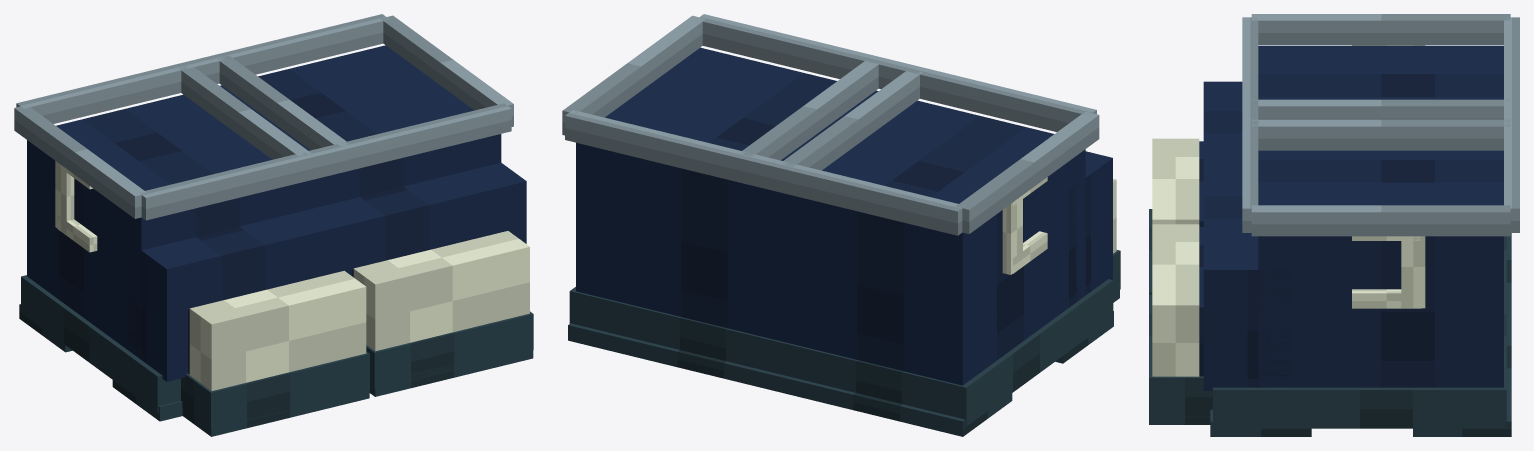
The model's file is jindan_taiyin_boots.obj.
3 views of the same model, side by side, from view 1: azimuth 30°, elevation 25°; view 2: azimuth 150°, elevation 25°; view 3: azimuth 270°, elevation 25° (orthographic). The views are drawn at different scales.
Visible parts, largest first — view 1: boot_shaft_-1, boot_instep_-1, boot_shaft_1, boot_toe_cap_-1, boot_toe_cap_1, boot_instep_1, boot_toe_welt_-1, boot_welt_-1, boot_cuff_front_-1, boot_toe_welt_1, boot_cuff_front_1, boot_cuff_back_-1 (+10 smaller); view 2: boot_shaft_-1, boot_shaft_1, boot_welt_-1, boot_cuff_back_-1, boot_welt_1, boot_cuff_back_1, boot_cuff_front_-1, boot_cuff_front_1, boot_cuff_side_-1_-1, boot_instep_-1, boot_cuff_side_1_1, boot_cuff_side_1_-1 (+5 smaller); view 3: boot_shaft_1, boot_shaft_-1, boot_instep_1, boot_welt_1, boot_cuff_side_1_1, boot_cuff_side_1_-1, boot_cuff_side_-1_-1, boot_toe_cap_1, boot_cuff_side_-1_1, boot_toe_cap_-1, boot_instep_-1, boot_toe_welt_1 (+12 smaller).
Part boxes in pixels (x1,y1,x2,y2): boot_shaft_-1: (27, 86, 337, 359); boot_instep_-1: (126, 202, 362, 381); boot_shaft_1: (220, 45, 501, 202); boot_toe_cap_-1: (189, 270, 366, 391); boot_toe_cap_1: (353, 231, 529, 351); boot_instep_1: (324, 162, 526, 268); boot_toe_welt_-1: (181, 351, 369, 428); boot_welt_-1: (21, 275, 180, 412); boot_cuff_front_-1: (140, 145, 347, 220); boot_toe_welt_1: (366, 311, 533, 388); boot_cuff_front_1: (303, 103, 511, 180); boot_cuff_back_-1: (16, 54, 224, 123); boot_shaft_-1: (752, 91, 1085, 385); boot_shaft_1: (576, 47, 878, 342); boot_welt_-1: (745, 279, 1113, 426); boot_cuff_back_-1: (740, 153, 965, 235); boot_welt_1: (569, 287, 791, 370); boot_cuff_back_1: (565, 110, 786, 191); boot_cuff_front_-1: (872, 57, 1096, 131); boot_cuff_front_1: (699, 14, 918, 88); boot_cuff_side_-1_-1: (956, 111, 1099, 233); boot_instep_-1: (1069, 151, 1112, 307); boot_cuff_side_1_1: (562, 15, 705, 135); boot_cuff_side_1_-1: (739, 61, 879, 160); boot_shaft_1: (1258, 150, 1503, 387); boot_shaft_-1: (1258, 45, 1503, 99); boot_instep_1: (1203, 184, 1291, 390); boot_welt_1: (1213, 304, 1506, 428); boot_cuff_side_1_1: (1251, 205, 1510, 236); boot_cuff_side_1_-1: (1251, 119, 1510, 150); boot_cuff_side_-1_-1: (1251, 14, 1510, 44); boot_toe_cap_1: (1152, 224, 1199, 376); boot_cuff_side_-1_1: (1252, 99, 1509, 119); boot_toe_cap_-1: (1152, 138, 1199, 224); boot_instep_-1: (1203, 81, 1242, 184); boot_toe_welt_1: (1149, 294, 1212, 416).
Bounding box in the file's own units: 0.5494 × 0.2944 × 0.4344.
